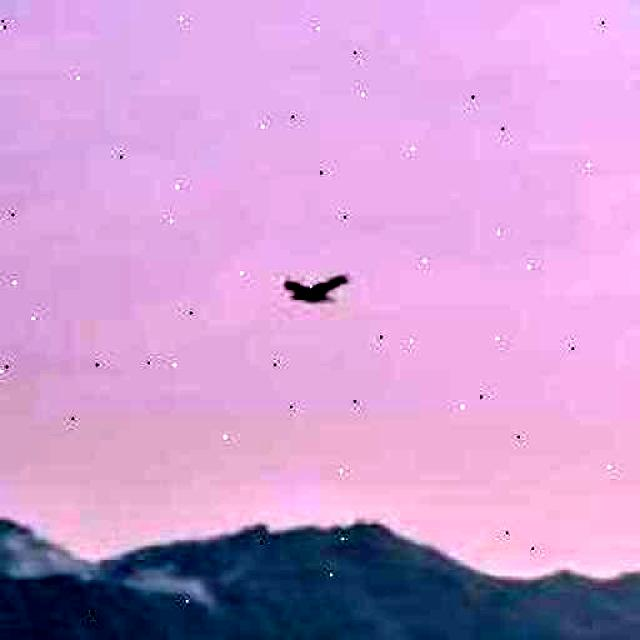airplane: (284, 271, 350, 301)
